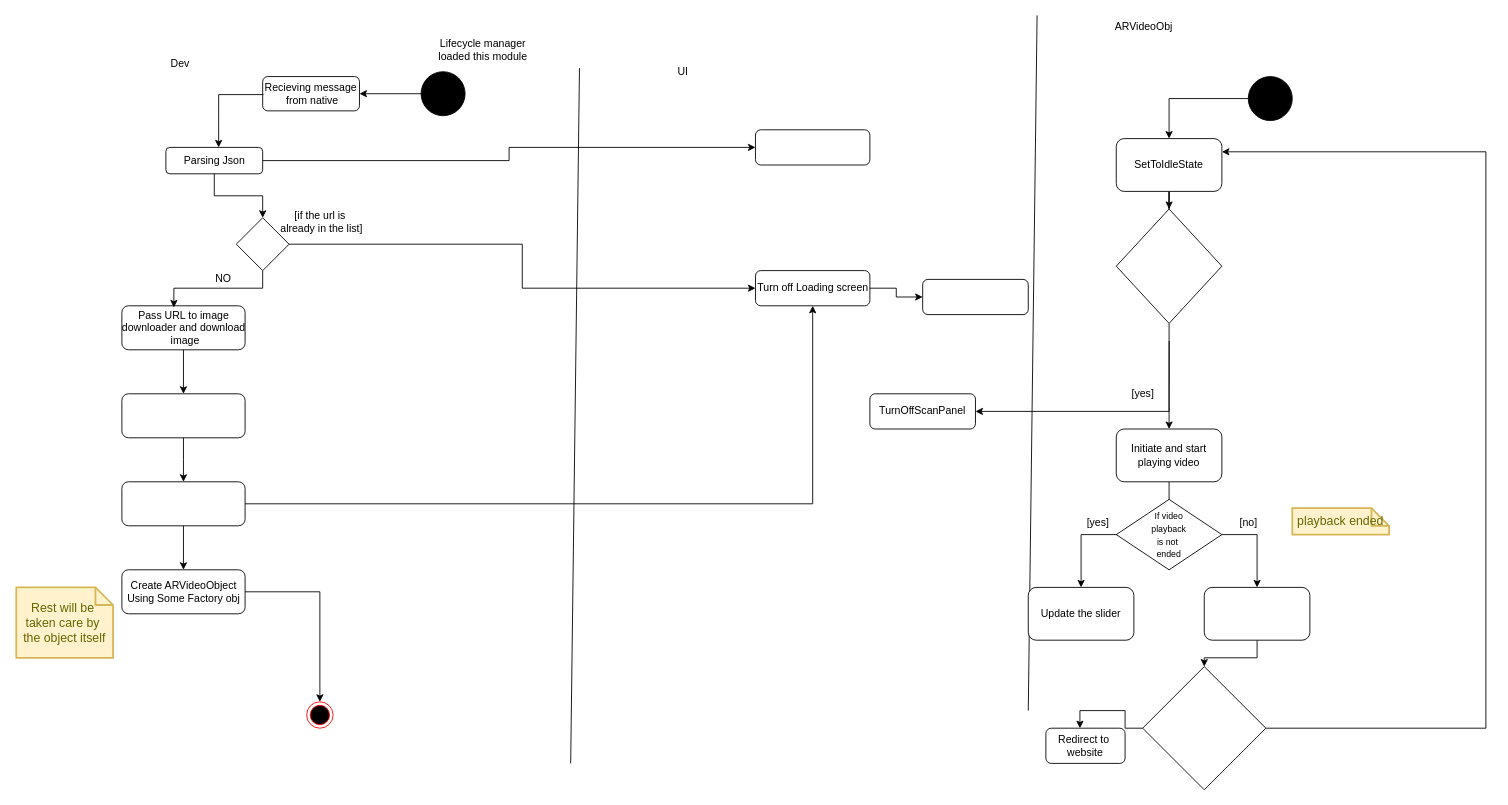
Some shapes in this 1508 by 805 pixel diagram are drawn without their labels. Each missing label, with the centre of its shape:
Add downloaded image to image target library: the point at 183,415
If currentTracked image == this objects parent name: the point at 1168,265
if redirect to some website choosen: the point at 1204,728
Show redirect template: the point at 1256,613
Trigger image addedToLIb Event after successfully adding image to lib: the point at 183,503
Turn on Loading screen: the point at 812,147
TurnOnScanPanel: the point at 975,297
